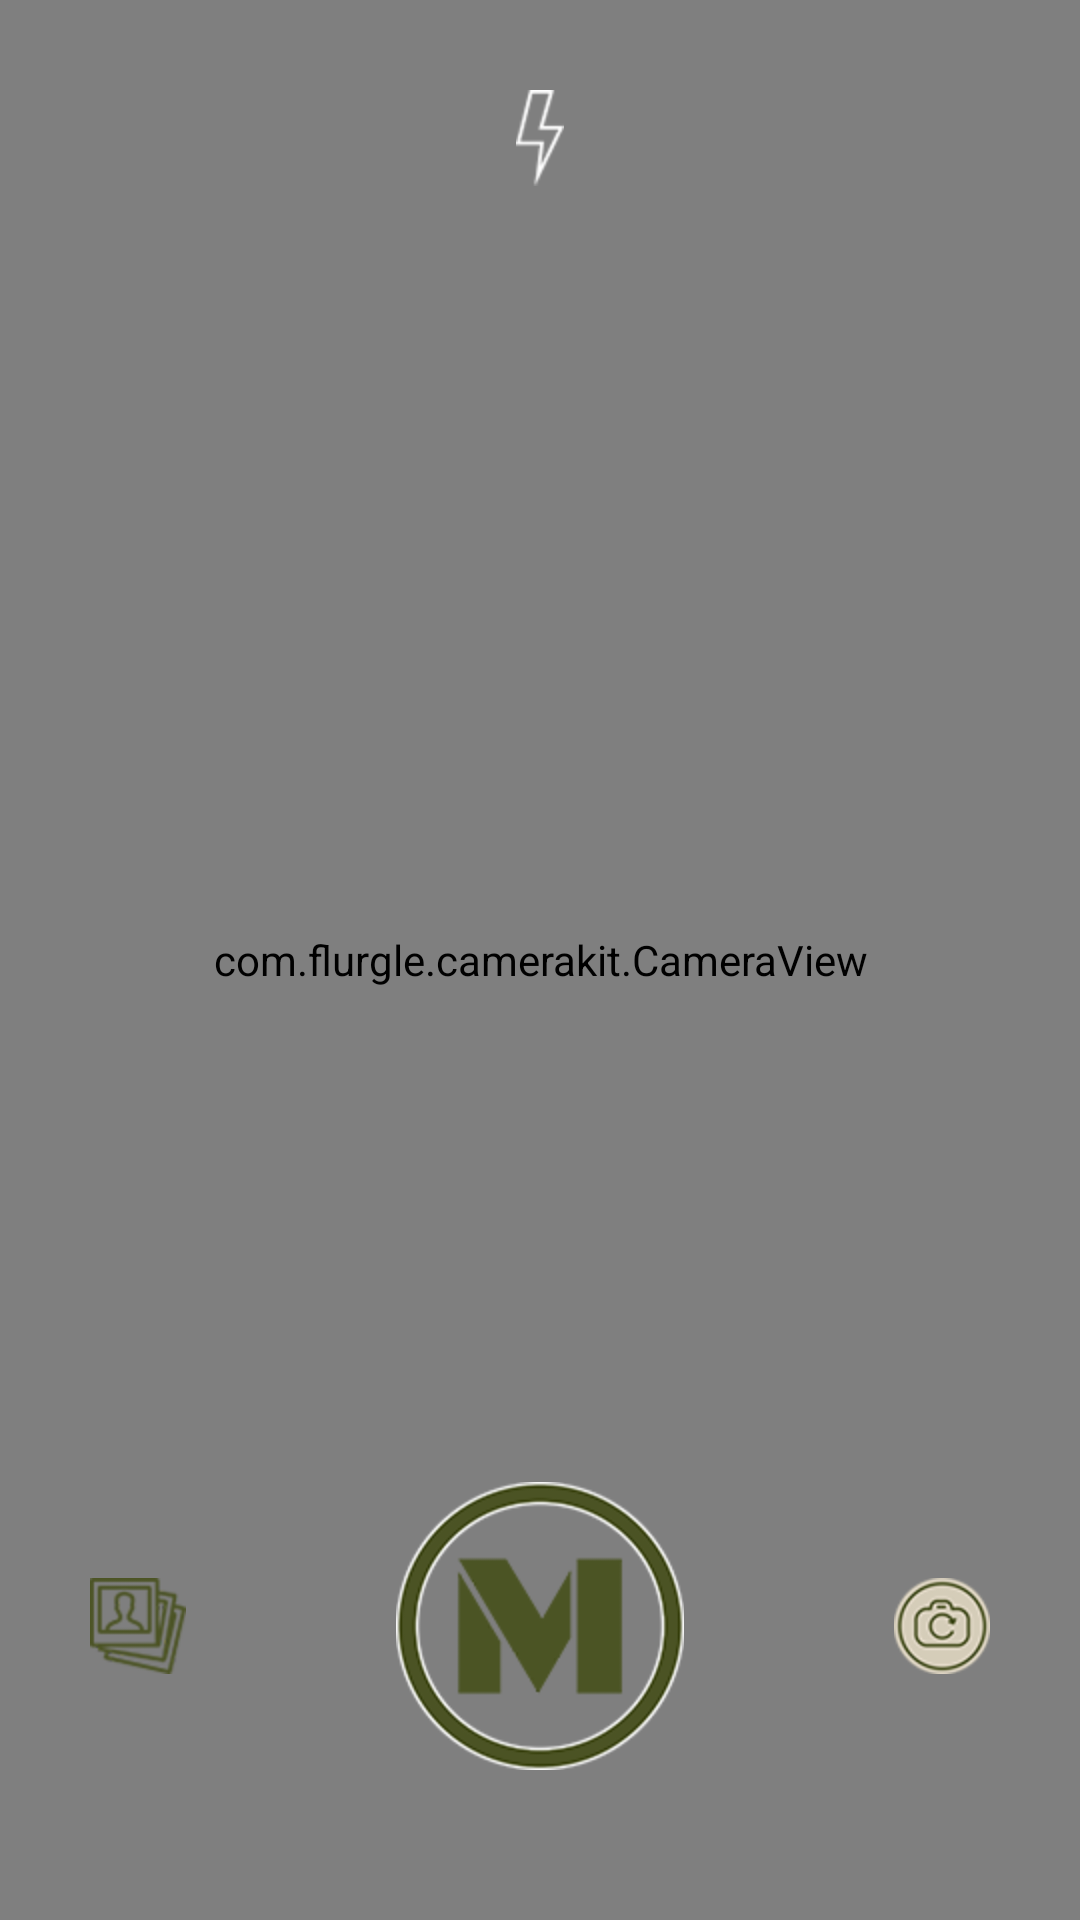

Locate icon controls on the screen. Image size 1080px x 1920px, boxes as bbox(x1, y1, x2, y2).
gallery: bbox(90, 1578, 186, 1674)
selfie: bbox(894, 1578, 990, 1674)
